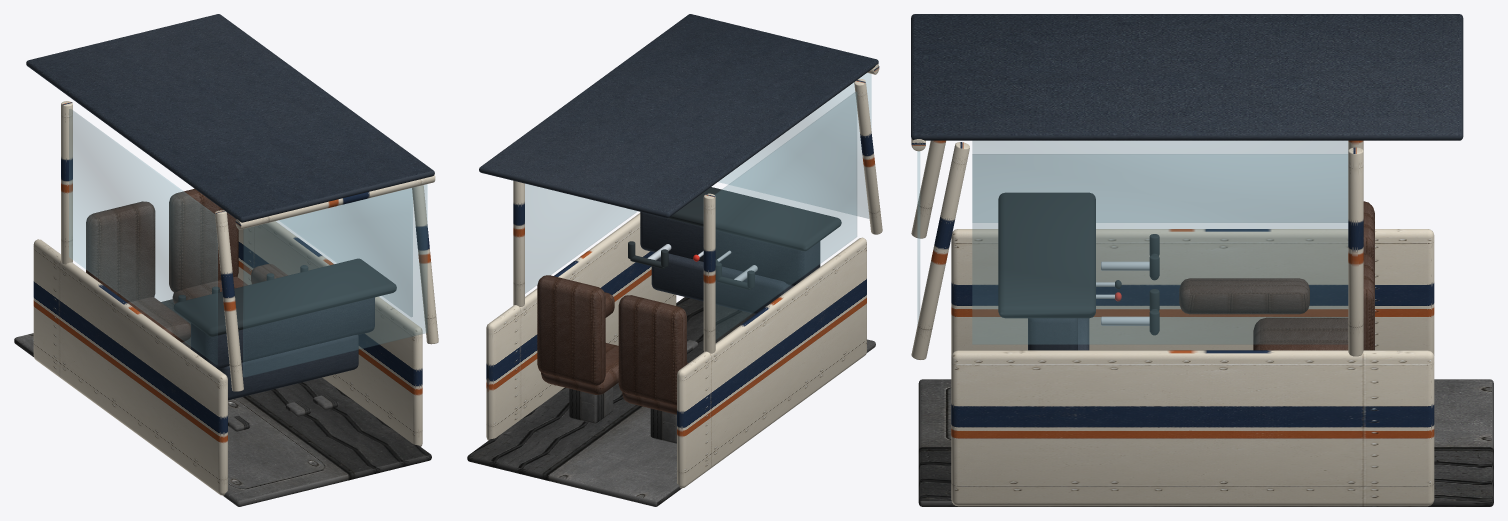
The model's file is aircraft-cab.glb.
3 views of the same model, side by side, from view 1: azimuth 30°, elevation 25°; view 2: azimuth 150°, elevation 25°; view 3: azimuth 270°, elevation 25° (orthographic). The views are drawn at different scales.
Visible parts, largest first — view 1: Roof lining, Front safety glazing, Cab lower sidewall, Side safety glazing, Cab floor, Cab lower sidewall.001, Panel top glare shield, Side safety glazing.001, Seat back, Blank instrument panel, Seat back.001, Panel lower console (+6 smaller); view 2: Roof lining, Cab lower sidewall, Side safety glazing, Cab floor, Cab lower sidewall.001, Front safety glazing, Seat back.001, Seat back, Side safety glazing.001, Blank instrument panel, Panel top glare shield, Panel lower console (+7 smaller); view 3: Cab lower sidewall.001, Side safety glazing.001, Roof lining, Cab lower sidewall, Side safety glazing, Cab floor, Panel top glare shield, Cab armrest, Front window side pillar.001, Side window rear pillar.001, Seat cushion, Blank instrument panel (+2 smaller).
Boxes of the visible parts, x1=… form: Roof lining: x1=26, y1=14, x2=434, y2=222; Front safety glazing: x1=243, y1=184, x2=427, y2=377; Cab lower sidewall: x1=33, y1=239, x2=227, y2=495; Side safety glazing: x1=69, y1=109, x2=217, y2=364; Cab floor: x1=14, y1=299, x2=431, y2=506; Cab lower sidewall.001: x1=237, y1=221, x2=422, y2=446; Panel top glare shield: x1=173, y1=258, x2=396, y2=336; Side safety glazing.001: x1=279, y1=188, x2=412, y2=316; Seat back: x1=86, y1=201, x2=155, y2=302; Blank instrument panel: x1=191, y1=297, x2=374, y2=369; Seat back.001: x1=169, y1=188, x2=238, y2=292; Panel lower console: x1=218, y1=334, x2=358, y2=400; Roof lining: x1=479, y1=14, x2=878, y2=217; Cab lower sidewall: x1=677, y1=237, x2=866, y2=488; Side safety glazing: x1=715, y1=92, x2=856, y2=339; Cab floor: x1=467, y1=297, x2=875, y2=506; Cab lower sidewall.001: x1=486, y1=213, x2=676, y2=440; Front safety glazing: x1=719, y1=73, x2=871, y2=218; Seat back.001: x1=537, y1=275, x2=605, y2=385; Seat back: x1=618, y1=295, x2=686, y2=405; Side safety glazing.001: x1=525, y1=184, x2=637, y2=293; Blank instrument panel: x1=640, y1=212, x2=820, y2=286; Panel top glare shield: x1=667, y1=187, x2=841, y2=251; Panel lower console: x1=651, y1=253, x2=793, y2=313; Cab lower sidewall.001: x1=951, y1=350, x2=1434, y2=506; Side safety glazing.001: x1=972, y1=154, x2=1347, y2=344; Roof lining: x1=911, y1=14, x2=1463, y2=140; Cab lower sidewall: x1=951, y1=229, x2=1434, y2=356; Side safety glazing: x1=972, y1=141, x2=1347, y2=222; Cab floor: x1=918, y1=379, x2=1493, y2=506; Panel top glare shield: x1=998, y1=192, x2=1095, y2=318; Cab armrest: x1=1179, y1=278, x2=1309, y2=314; Front window side pillar.001: x1=911, y1=142, x2=969, y2=359; Side window rear pillar.001: x1=1348, y1=147, x2=1363, y2=356; Seat cushion: x1=1253, y1=317, x2=1348, y2=350; Blank instrument panel: x1=1028, y1=318, x2=1077, y2=350.
Size of the model in its own units: 1.58 by 2.15 by 3.04.
Materials: 8 (4 with a texture image).
